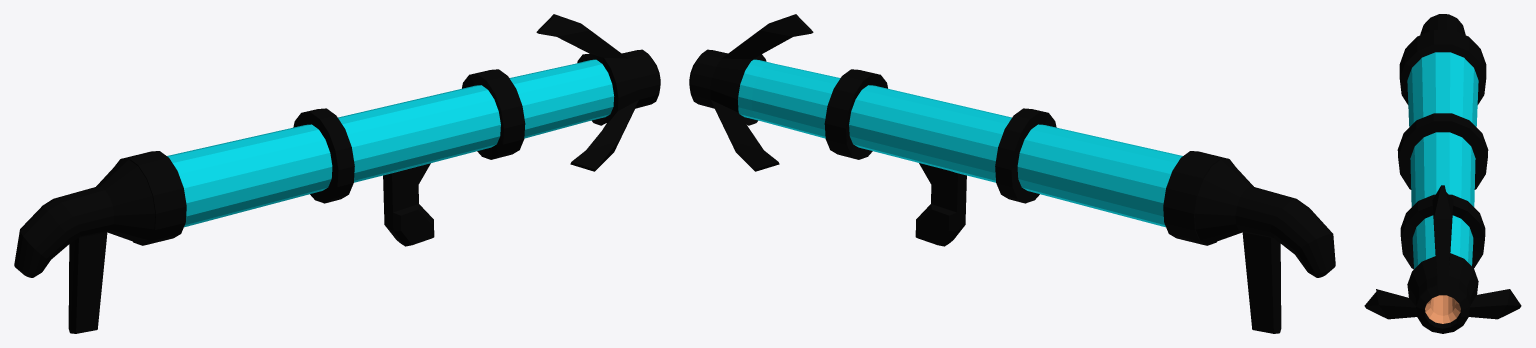
The model's file is Hook.fbx.
3 views of the same model, side by side, from view 1: azimuth 30°, elevation 25°; view 2: azimuth 150°, elevation 25°; view 3: azimuth 270°, elevation 25° (orthographic). The views are drawn at different scales.
Visible parts, largest first — view 1: Cylinder; view 2: Cylinder; view 3: Cylinder.
Part boxes in pixels (x1,y1,x2,y2): Cylinder: (14, 14, 660, 333); Cylinder: (689, 14, 1335, 333); Cylinder: (1364, 14, 1521, 333).
Size of the model in its own units: 138 by 42.04 by 30.73.
